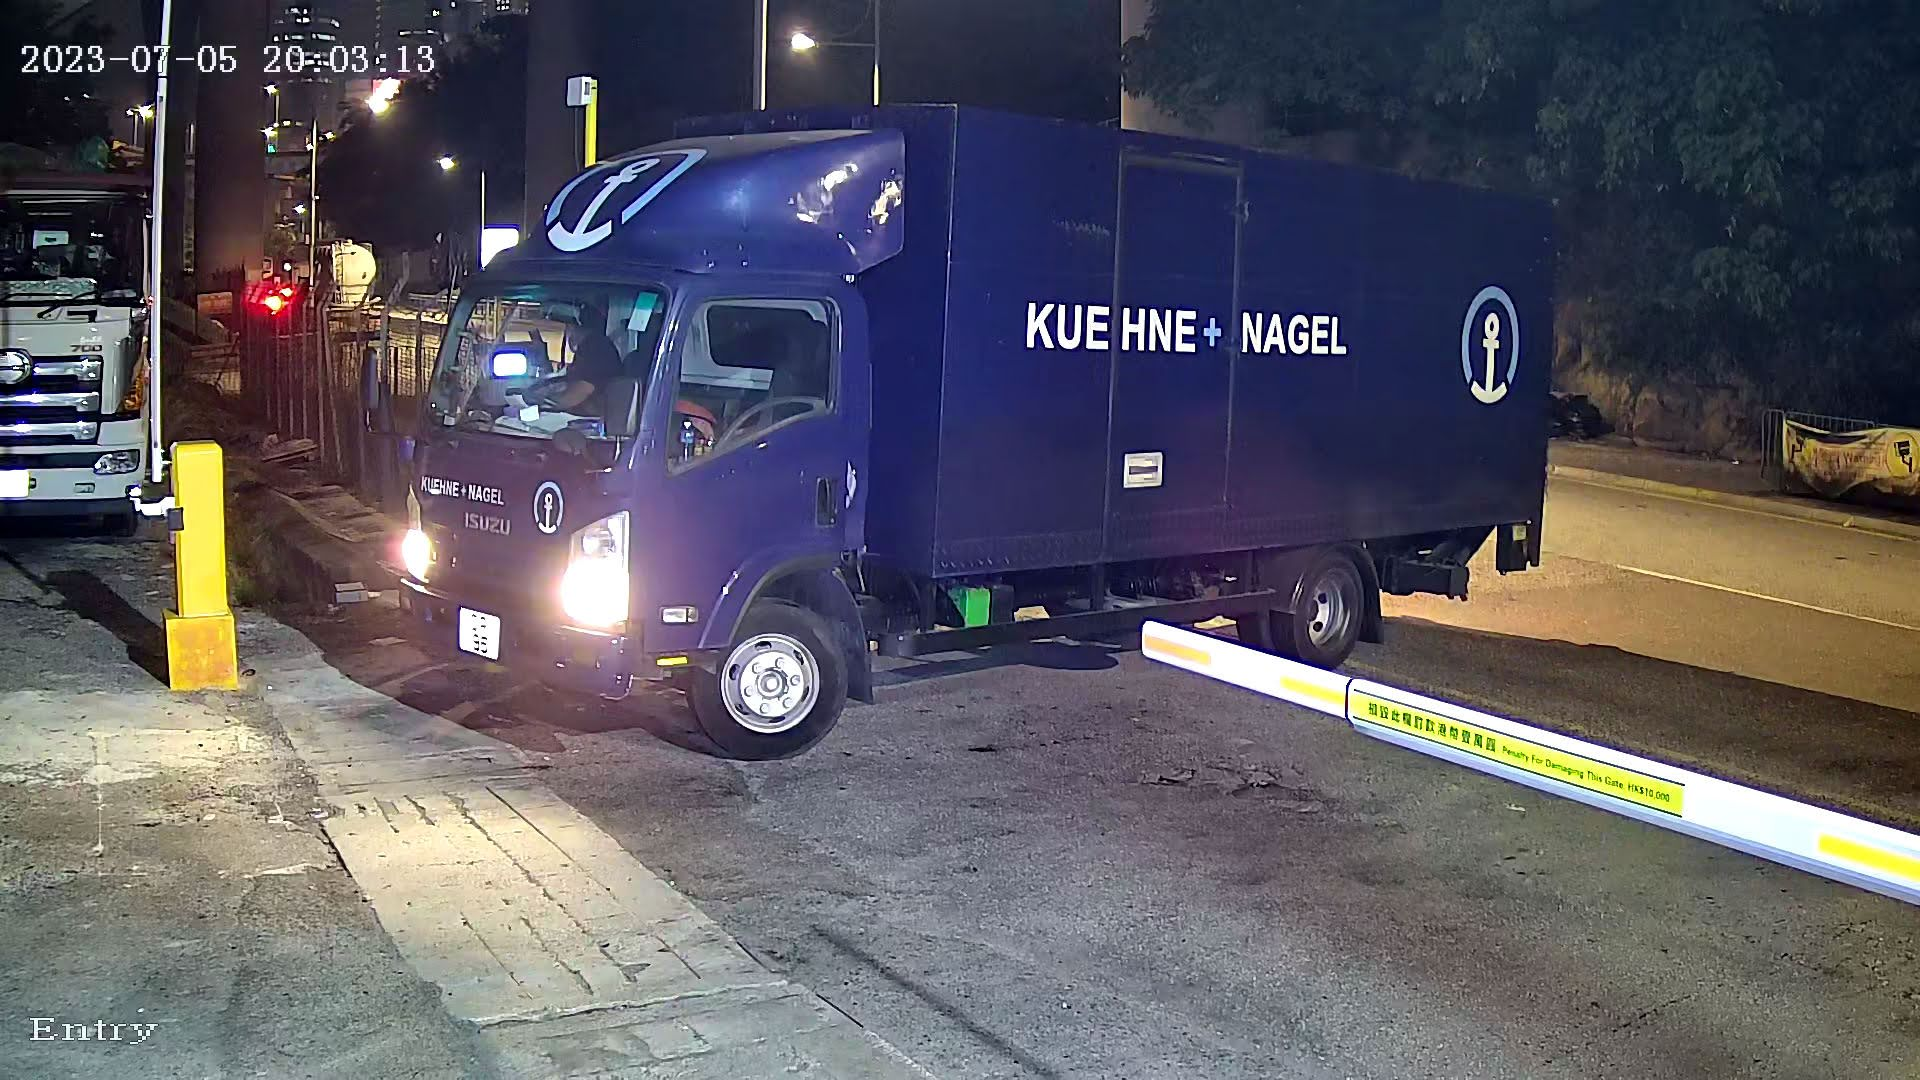truck_small: (323, 76, 1629, 777)
